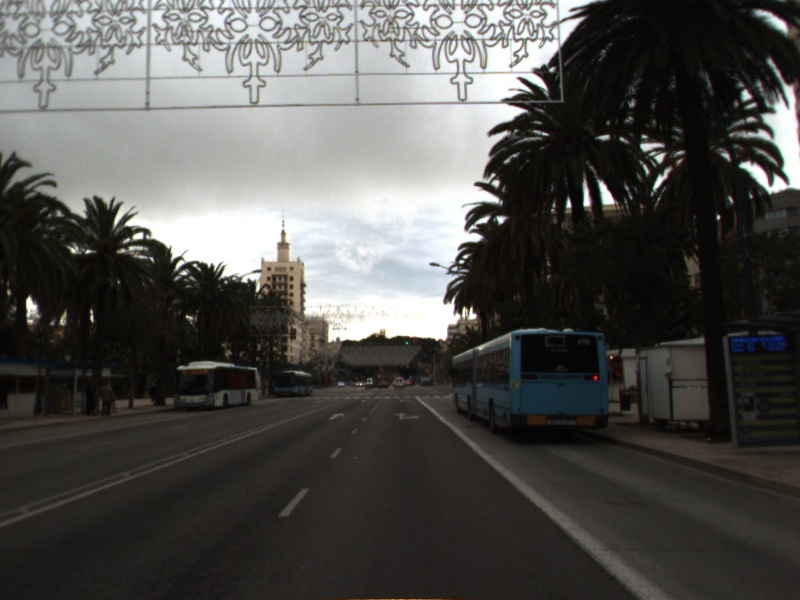STRAIGHT: (327, 411, 346, 421)
STRAIGHT_RIGHT: (392, 411, 421, 421)
